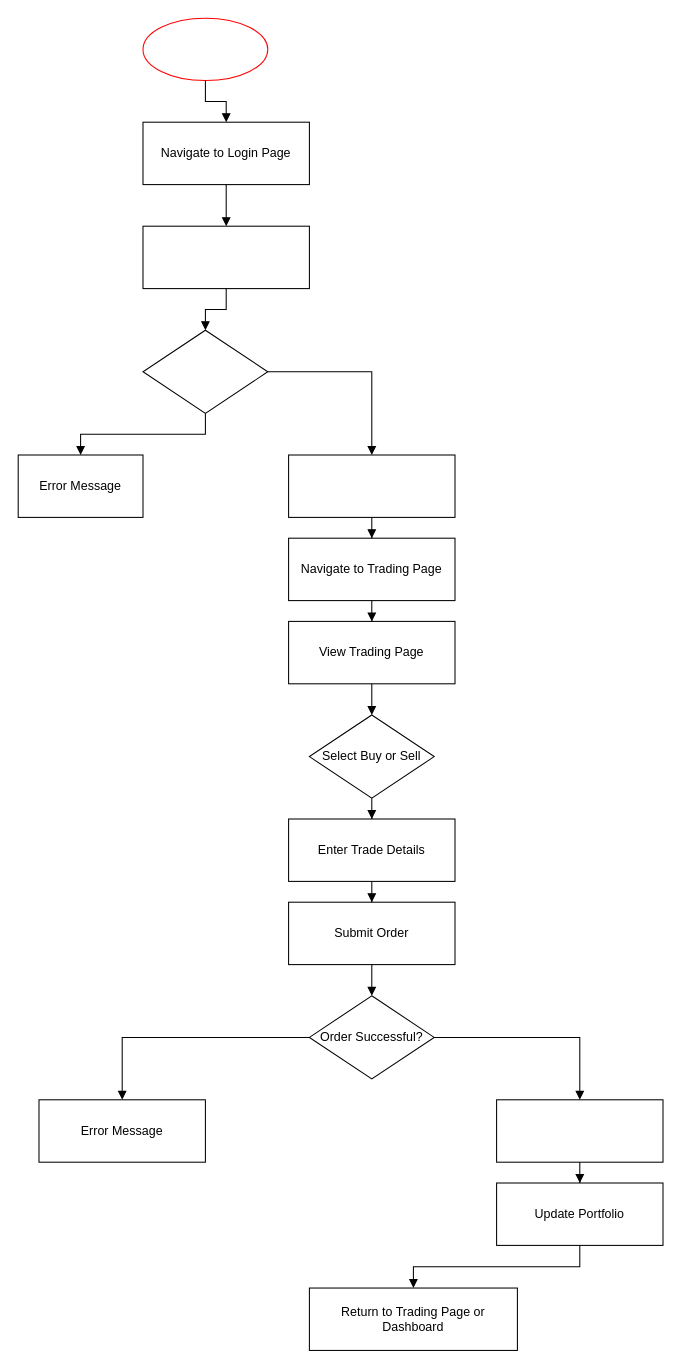
Image size: 681x1369. Some labels were removed from this diagram. Here are the shapes that lost their labels. From the top down, the centre of each, then its label:
the point at 205,49: Start: Homepage
the point at 225,257: Enter Login Credentials
the point at 205,371: Credentials Valid?
the point at 371,485: Dashboard
the point at 579,1130: Order Confirmation
